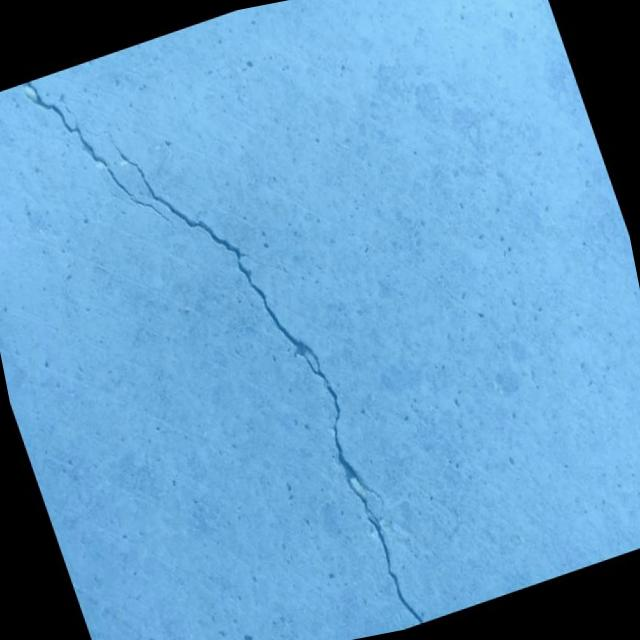crack: (78, 57, 427, 640), (19, 47, 182, 272), (108, 182, 134, 213)
